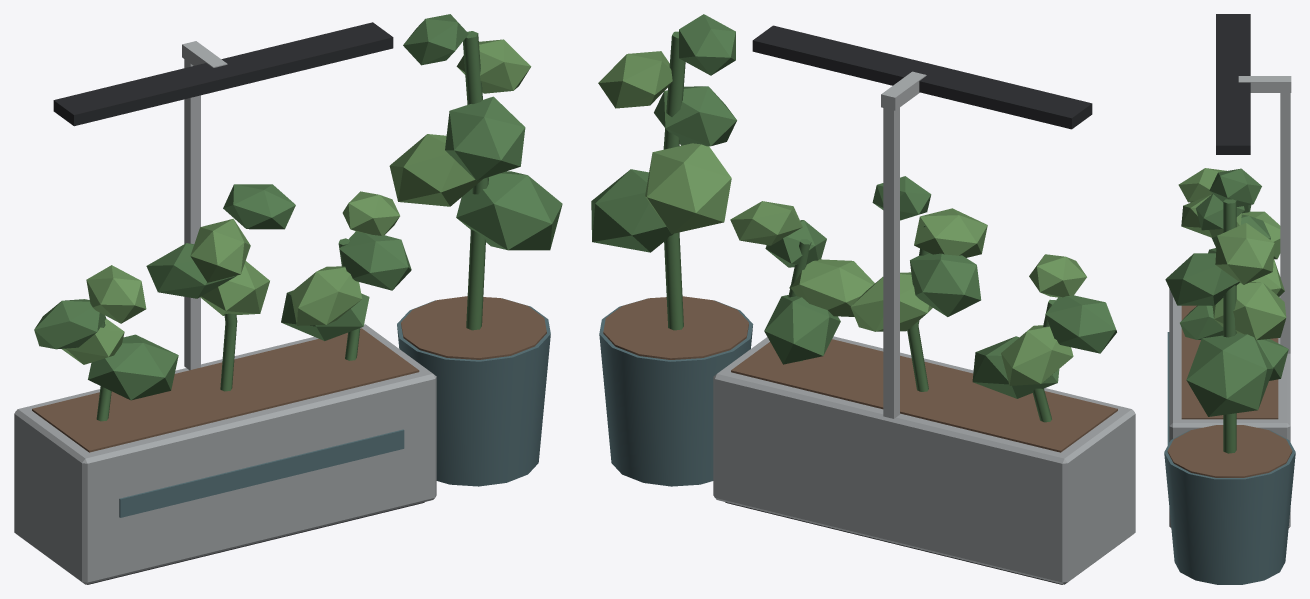
File: astro_plant_pots.fbx
The picture shows the model from 3 angles, left to right: view 1: azimuth 30°, elevation 25°; view 2: azimuth 150°, elevation 25°; view 3: azimuth 270°, elevation 25°; orthographic projection. The views are drawn at different scales.
Visible parts, largest first — view 1: PlantPots_Body; view 2: PlantPots_Body; view 3: PlantPots_Body.
Boxes of the visible parts, x1,y1,x2,y2 form: PlantPots_Body: (14, 14, 562, 584); PlantPots_Body: (591, 14, 1135, 584); PlantPots_Body: (1164, 14, 1295, 584).
Bounding box in the file's own units: 297 × 244 × 76.
